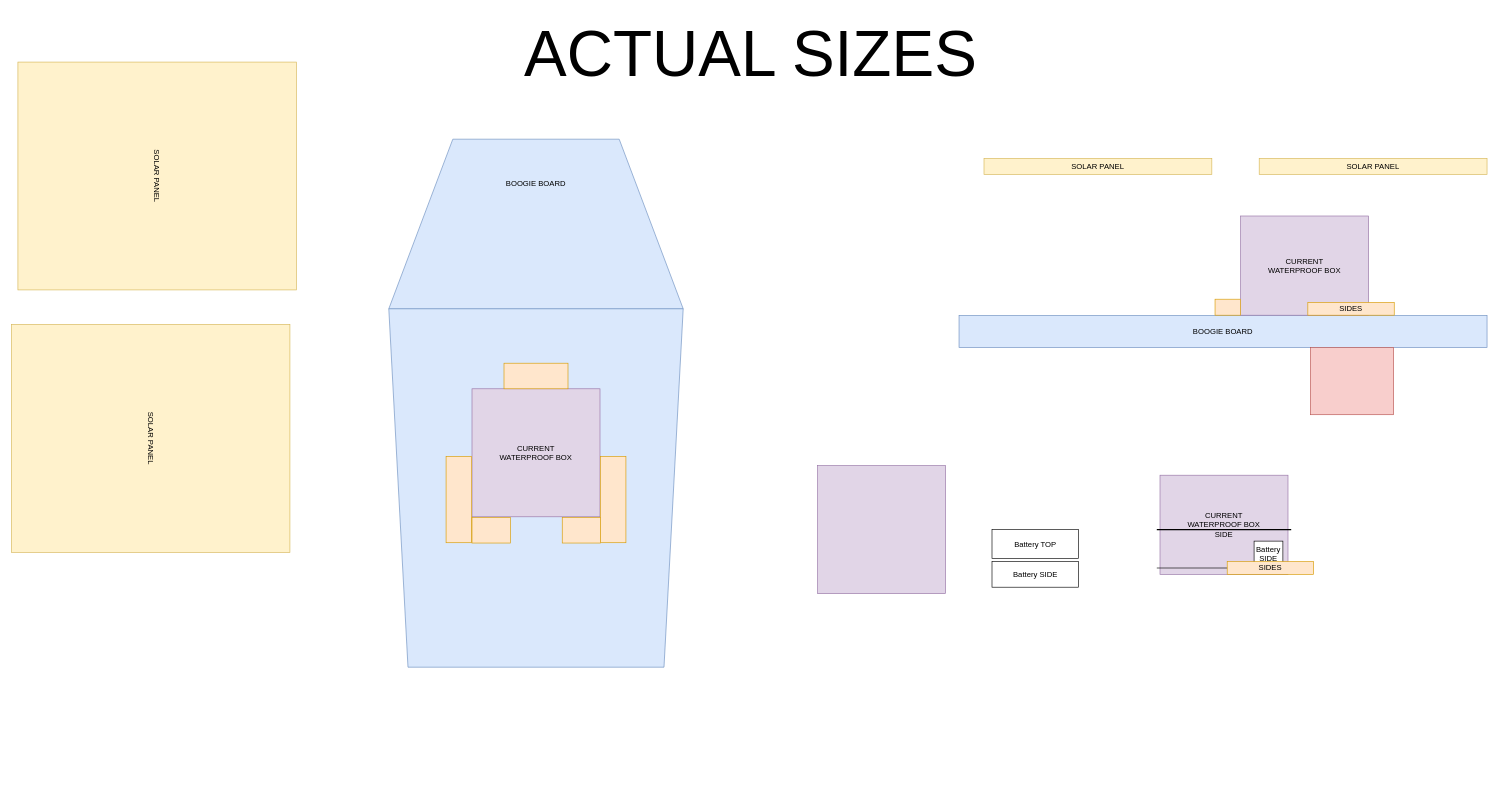
The diagram is 1498 pixels wide and 807 high, and some of its shapes have lost their labels. Here are the shapes that lost their labels. From the top down, the centre of each, then its label:
At point (1227, 307): "FRONT".
At point (1352, 381): "MOTORS".
At point (881, 529): "CURRENT WATERPROOF BOX TOP".
